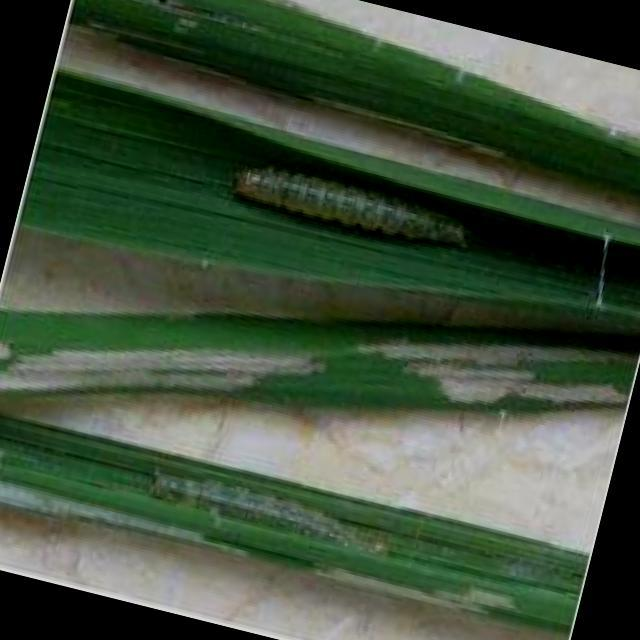leaf folder: (138, 456, 396, 561), (234, 166, 465, 246)
